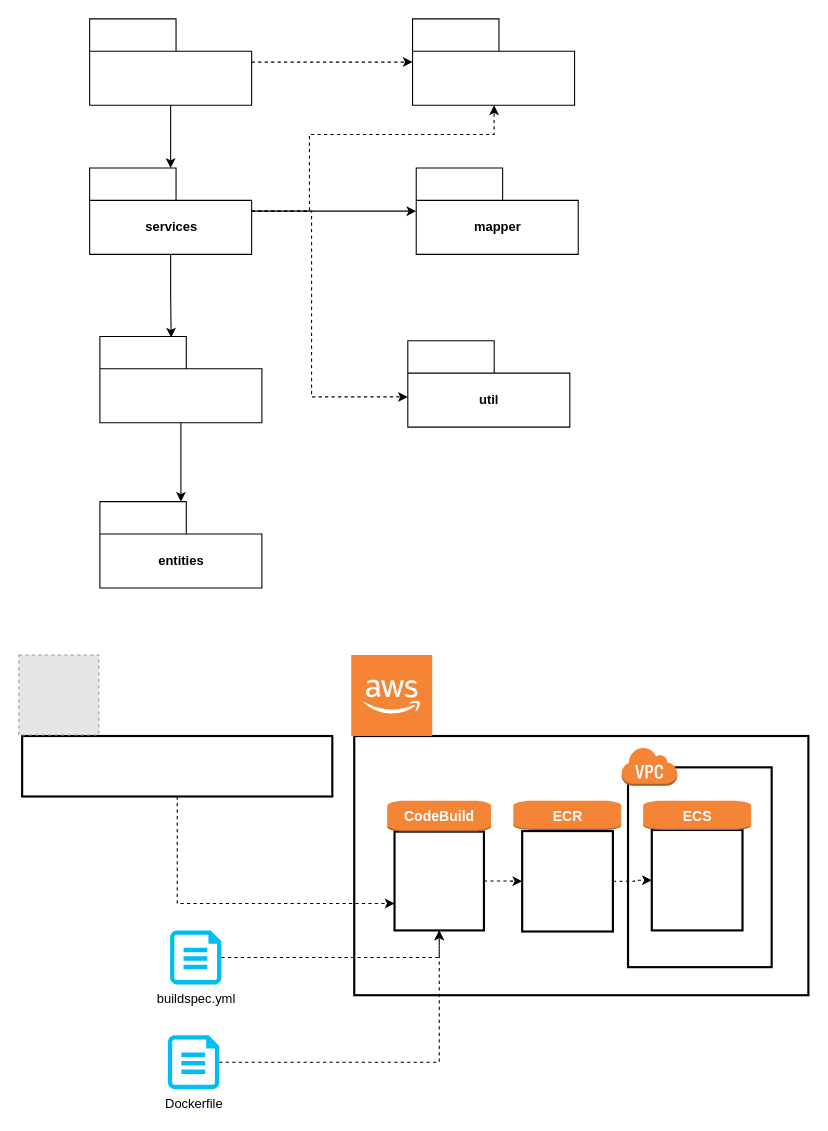
Image size: 828x1131. Some labels were removed from this diagram. Grey dashed boxes stand in for pictures. The shapes that lost their labels are listed below. From the top down, each one's centre as x and y in pixels, then its label:
At point (170, 61): "controller".
At point (493, 61): "exception".
At point (180, 379): "dao".
At point (177, 765): "https://github.com/gi0o0/quasar_fire".
